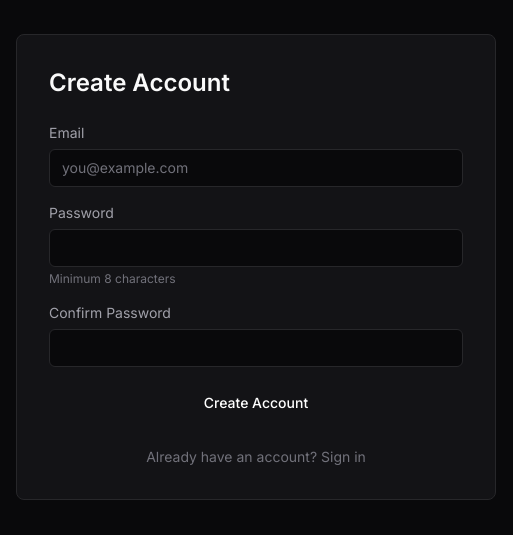
Test: SignupPage › shows validation error for mismatched passwords
Step 1. Type "test@example.com" into the field labelled "Email" → (256, 168), box [49, 149, 463, 187]
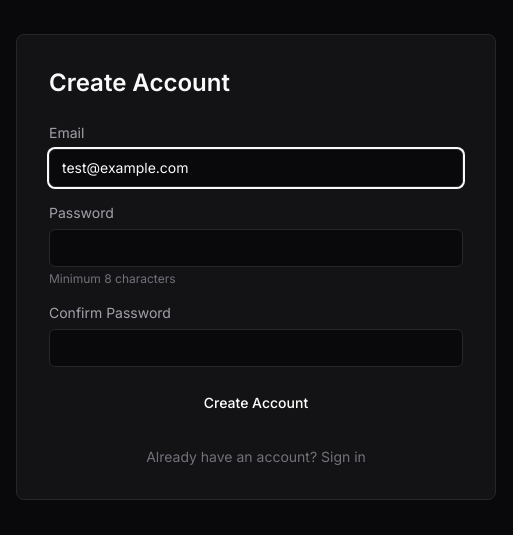
Step 2. Type "securepass123" into the password field labelled "Password" → (256, 248), box [49, 229, 463, 267]
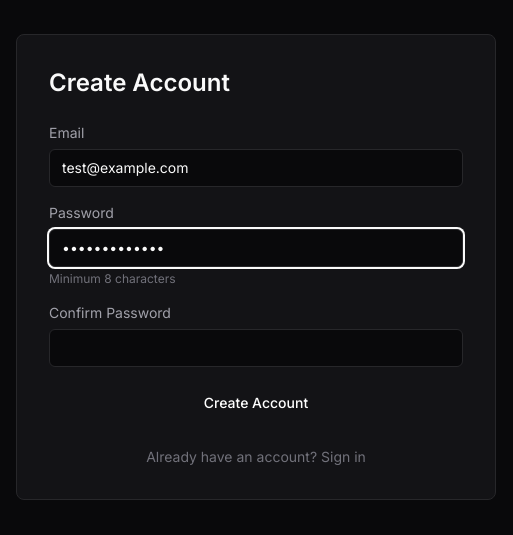
Step 3. Type "different123" into the password field labelled "Confirm Password" → (256, 348), box [49, 329, 463, 367]
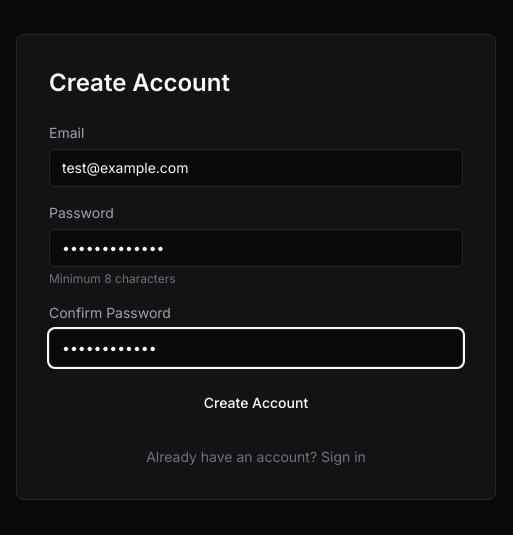
Step 4. Click the button "Create Account" → (256, 403), box [49, 383, 463, 423]
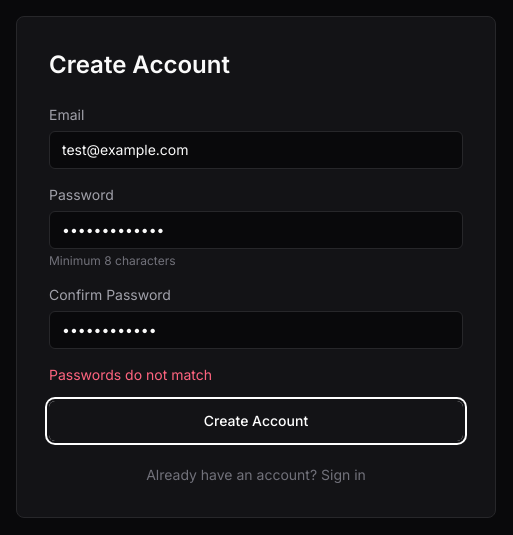
Now the text "Passwords do not match" is shown, box [49, 366, 212, 383]
